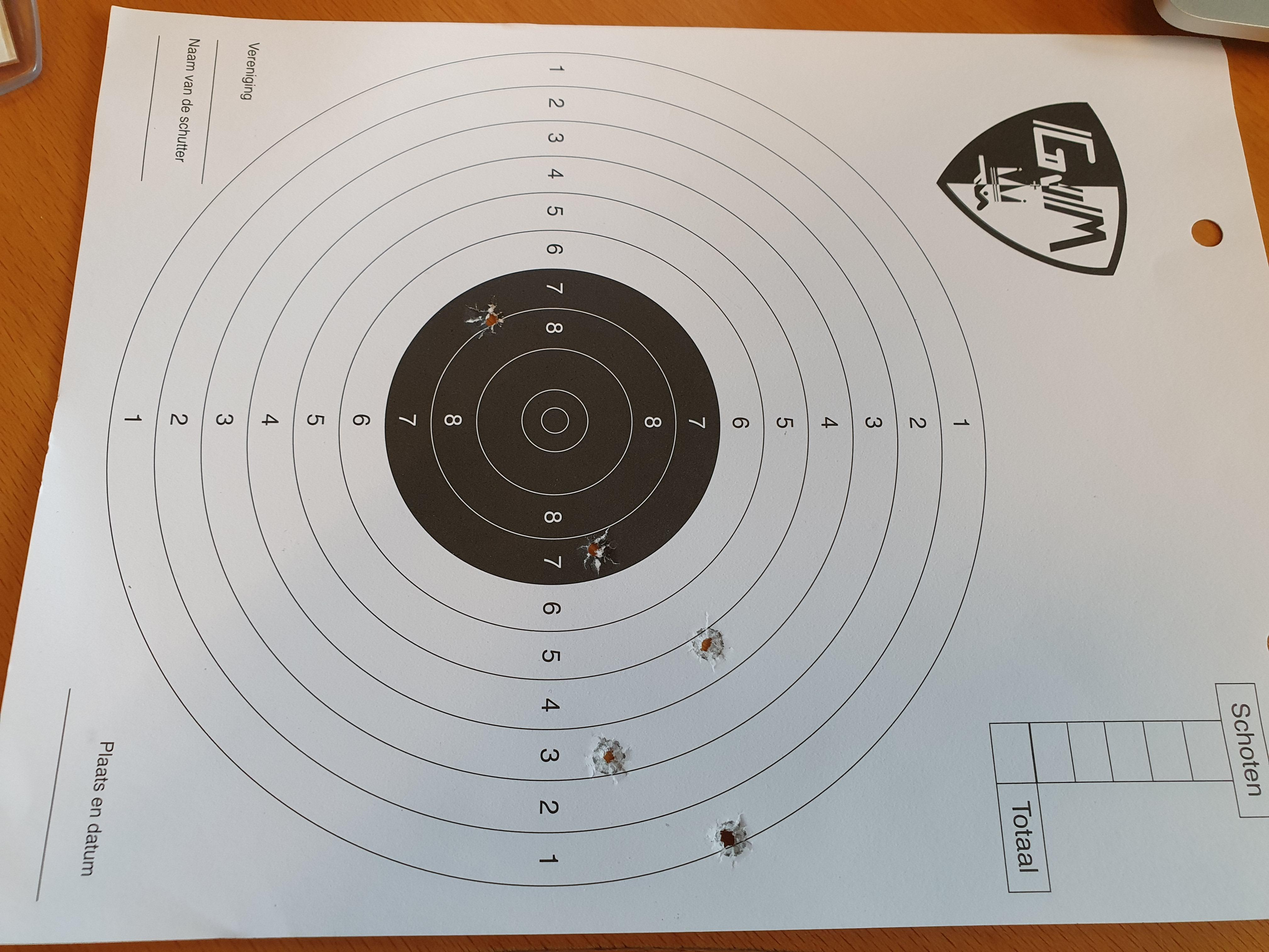hole: (505, 432, 567, 469), (380, 517, 447, 551), (817, 346, 878, 383), (120, 533, 182, 563), (233, 440, 285, 472)
